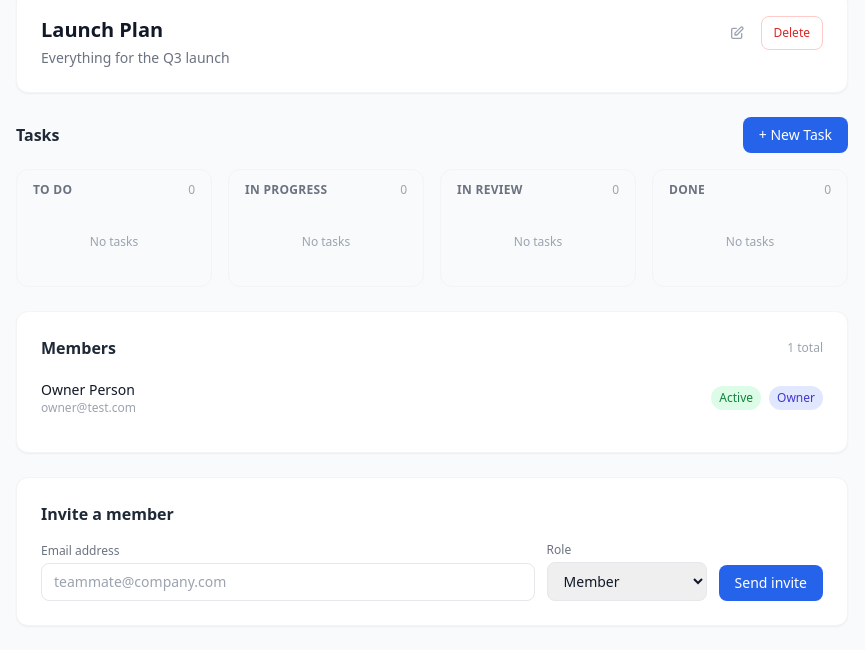
ProjectDetail › shows a delete error and resets confirmation state on failure
This screenshot has width=865, height=650.
Expected: the heading "Launch Plan" is shown, x1=41 y1=16 x2=163 y2=43
Click the button "Delete". click: (792, 33)
box: x1=760 y1=16 x2=823 y2=50
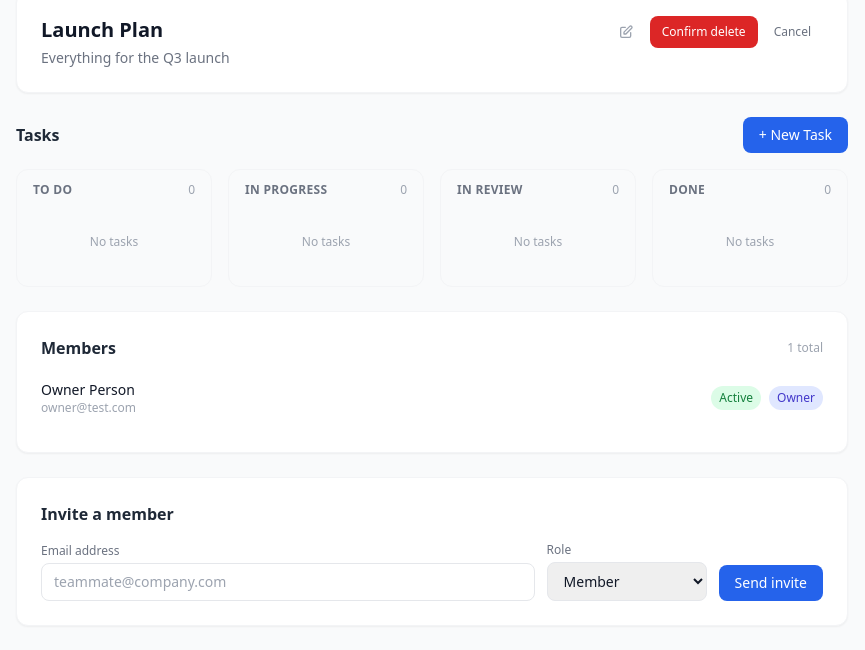
Click the button "Confirm delete". click: (704, 32)
box: x1=650 y1=16 x2=758 y2=48
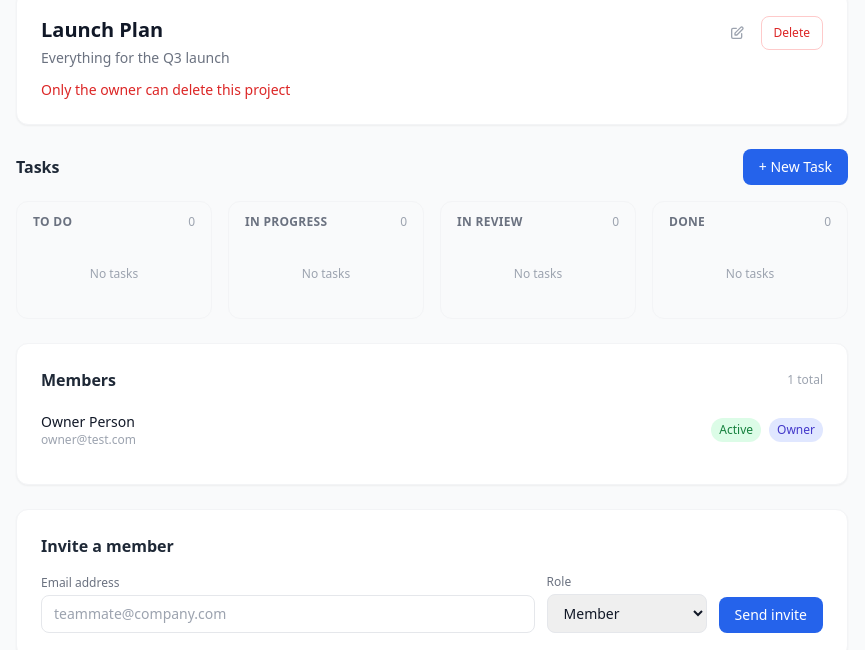
Result: the text "Only the owner can delete this project" is shown at x1=41 y1=80 x2=290 y2=99
Result: the button "Delete" is shown at x1=760 y1=16 x2=823 y2=50
